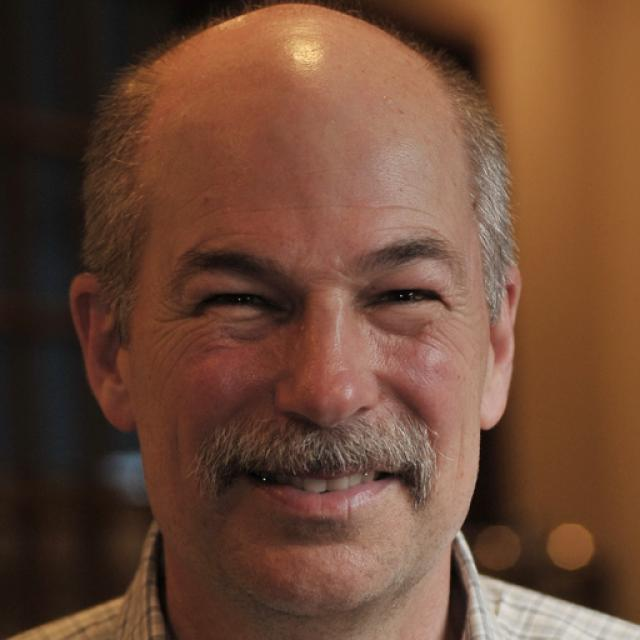Acne: (196, 190, 220, 205)
Wrinkle: (222, 199, 446, 224)
